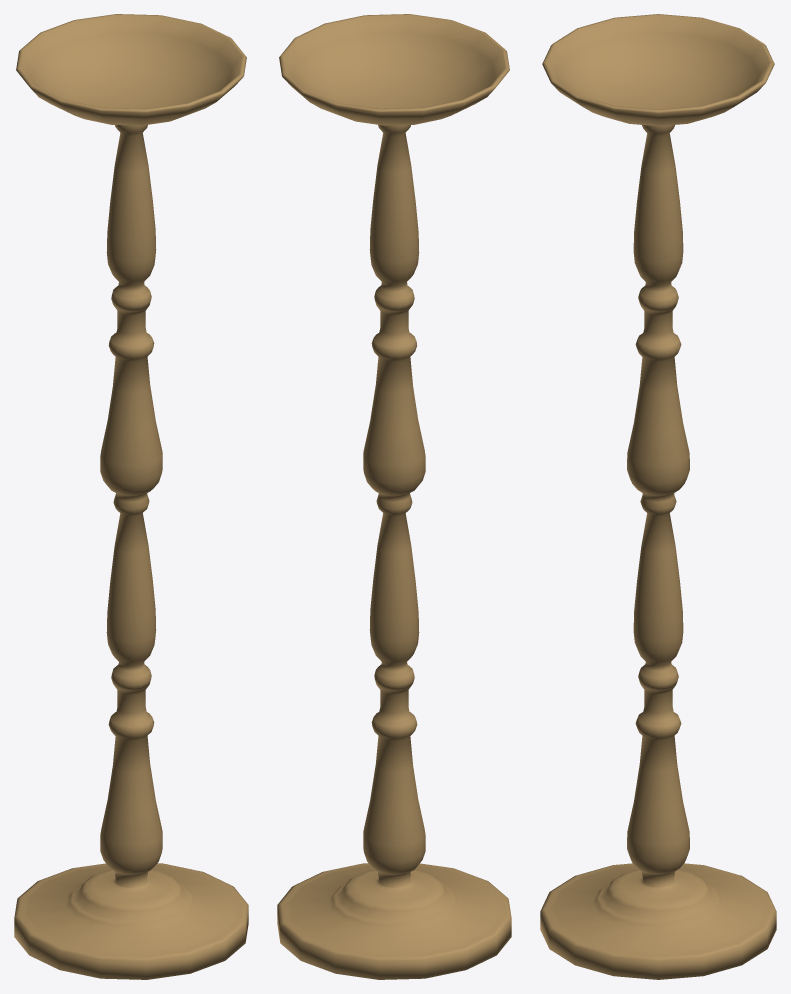
The model's file is Candle Holder.fbx.
The picture shows the model from 3 angles, left to right: view 1: azimuth 30°, elevation 25°; view 2: azimuth 150°, elevation 25°; view 3: azimuth 270°, elevation 25°; orthographic projection.
Parts seen in each view (by area): view 1: Candle Holder; view 2: Candle Holder; view 3: Candle Holder.
Part boxes in pixels (x1,y1,x2,y2): Candle Holder: [14, 14, 248, 979]; Candle Holder: [277, 14, 511, 979]; Candle Holder: [540, 14, 776, 979].
Bounding box in the file's own units: 1.16 × 4.69 × 1.16.
